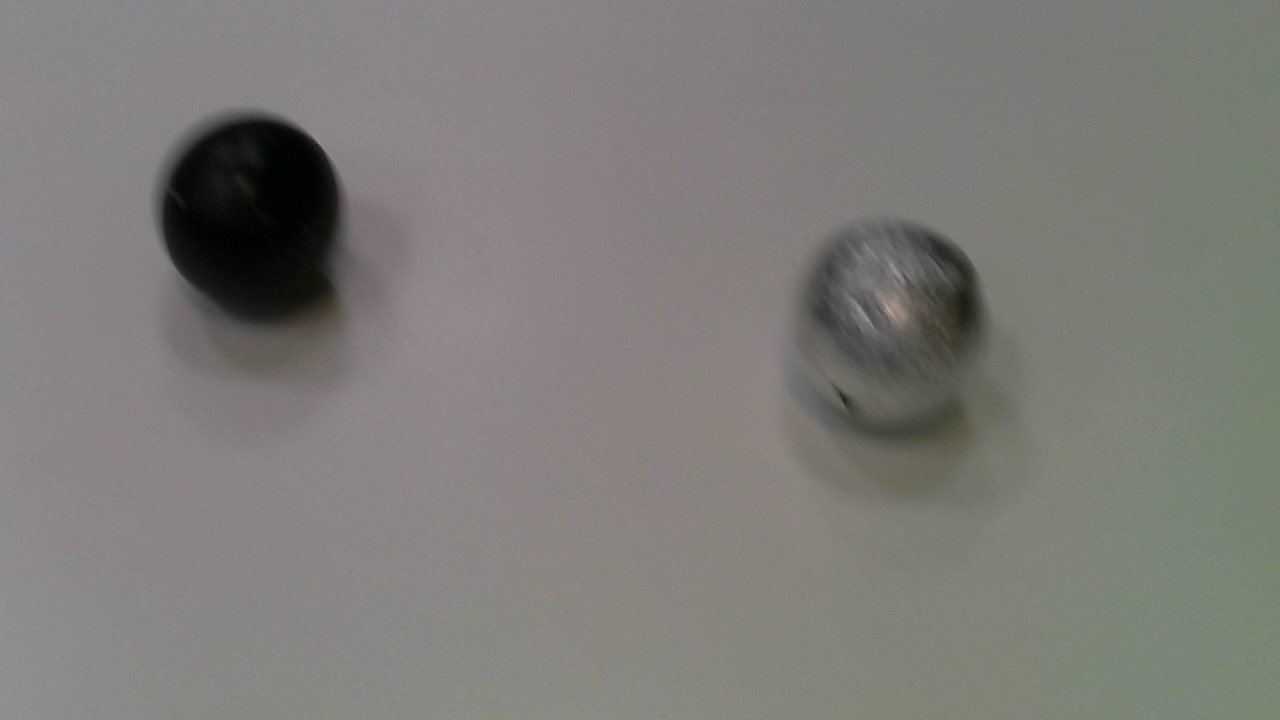black_ball: (161, 106, 344, 315)
silver_ball: (788, 214, 991, 438)
